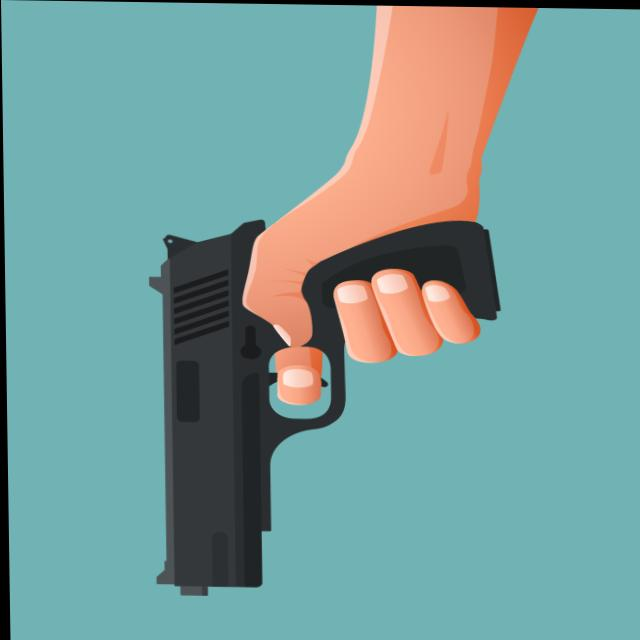handgun: (145, 217, 496, 603)
